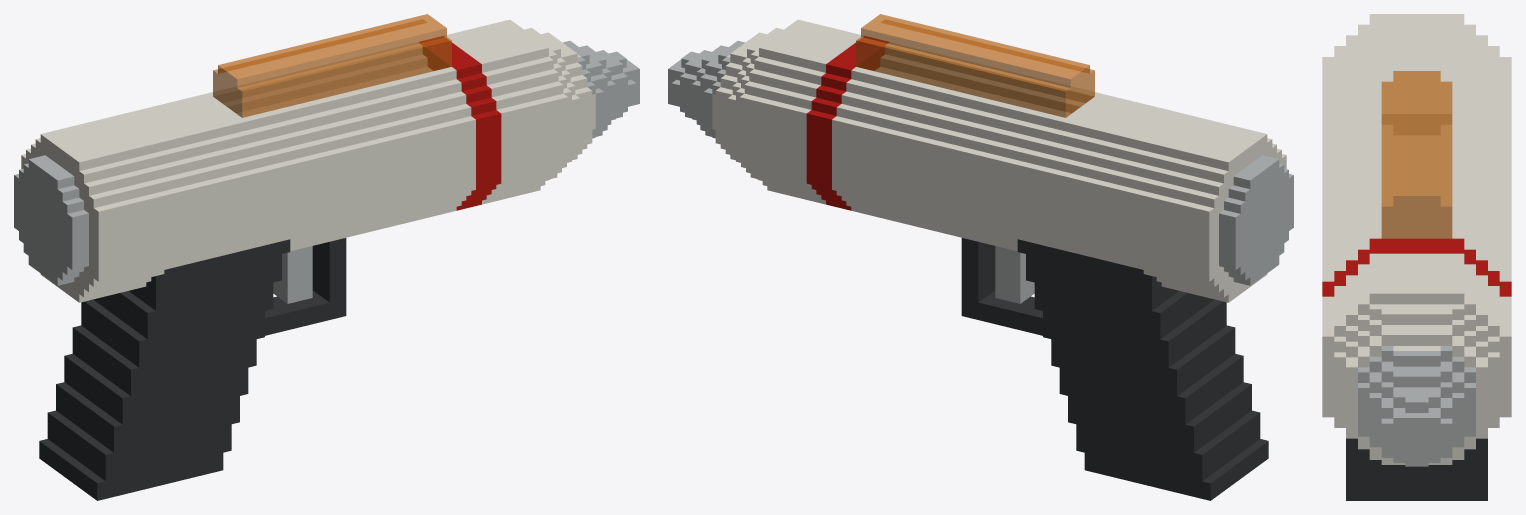
The model's file is jet_injector.glb.
3 renders of one model, left to right at view 1: azimuth 30°, elevation 25°; view 2: azimuth 150°, elevation 25°; view 3: azimuth 270°, elevation 25°, orthographic. The views are drawn at different scales.
Parts seen in each view (by area): view 1: jet_injector:compound; view 2: jet_injector:compound; view 3: jet_injector:compound.
Part boxes in pixels (x1,y1,x2,y2): jet_injector:compound: (14, 14, 639, 500); jet_injector:compound: (668, 14, 1293, 500); jet_injector:compound: (1322, 14, 1511, 500).
Size of the model in its own units: 0.14 by 0.084 by 0.032.
